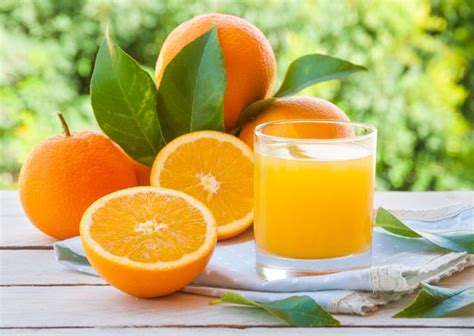orange: (154, 12, 273, 131), (16, 128, 140, 242)
